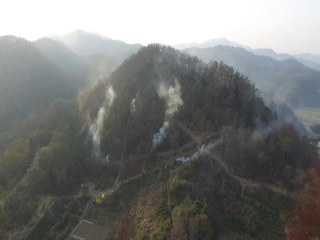smoke: (150, 76, 221, 167), (90, 76, 115, 166)
